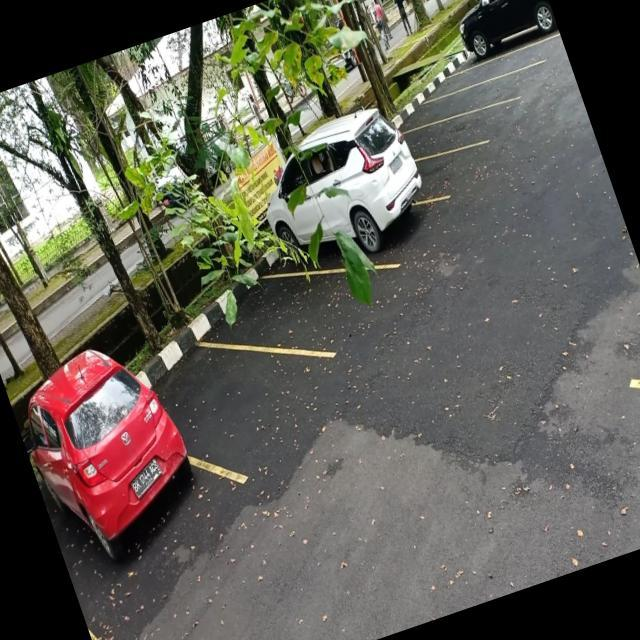empty: (146, 321, 318, 487), (207, 250, 362, 376), (412, 64, 536, 128), (404, 100, 503, 165), (443, 39, 552, 95)
occupied: (28, 399, 224, 576), (261, 156, 445, 292), (453, 0, 561, 68)
